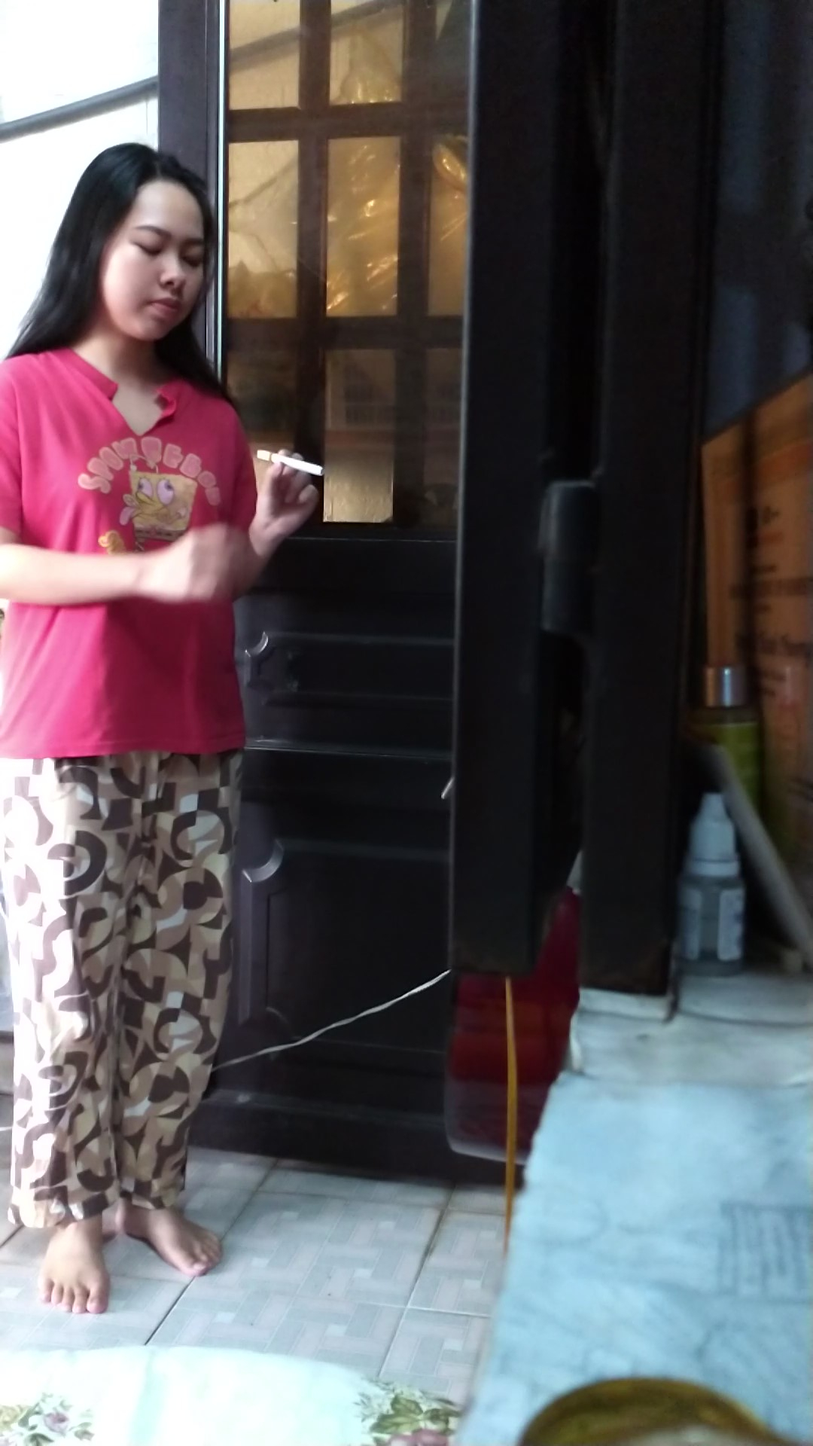cigarette: (251, 446, 327, 480)
person: (0, 145, 324, 1340)
